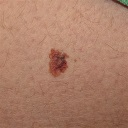Melanoma: (45, 46, 72, 80)
